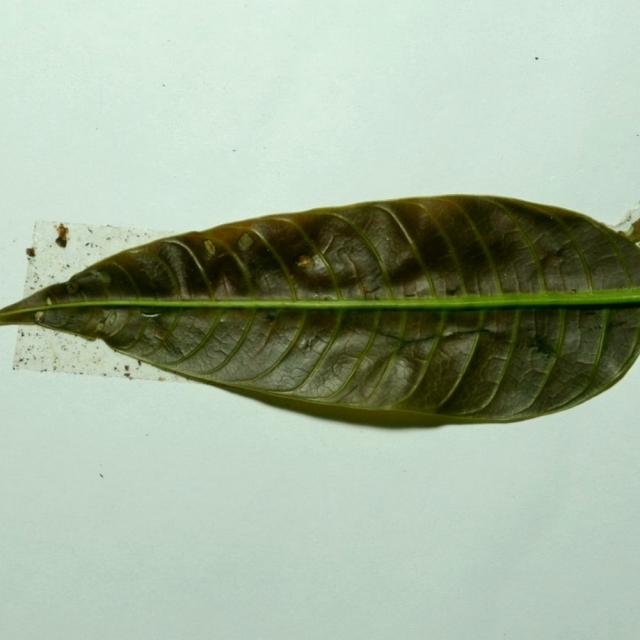Anthracnose: (561, 304, 640, 403), (374, 192, 532, 216), (151, 239, 211, 299), (141, 315, 208, 364), (376, 246, 440, 292), (302, 247, 355, 293), (256, 352, 314, 390), (320, 352, 370, 391), (550, 310, 582, 356), (94, 304, 132, 341), (536, 245, 568, 285), (65, 270, 110, 298), (430, 325, 495, 344), (604, 307, 640, 333), (35, 303, 70, 328), (528, 348, 554, 371), (299, 333, 327, 354), (314, 231, 333, 256), (134, 306, 165, 320), (237, 235, 253, 251), (203, 240, 216, 256), (586, 322, 605, 332), (82, 331, 98, 342), (66, 282, 79, 294), (55, 235, 67, 248), (554, 247, 566, 258), (266, 313, 277, 323), (34, 312, 44, 323), (95, 321, 105, 332), (127, 246, 140, 254), (35, 365, 48, 373), (583, 310, 598, 316), (123, 372, 131, 379), (46, 296, 53, 304), (17, 357, 24, 363), (124, 364, 129, 371), (102, 372, 109, 377), (137, 360, 142, 366), (113, 366, 118, 371)
Mango: (0, 196, 639, 432)
